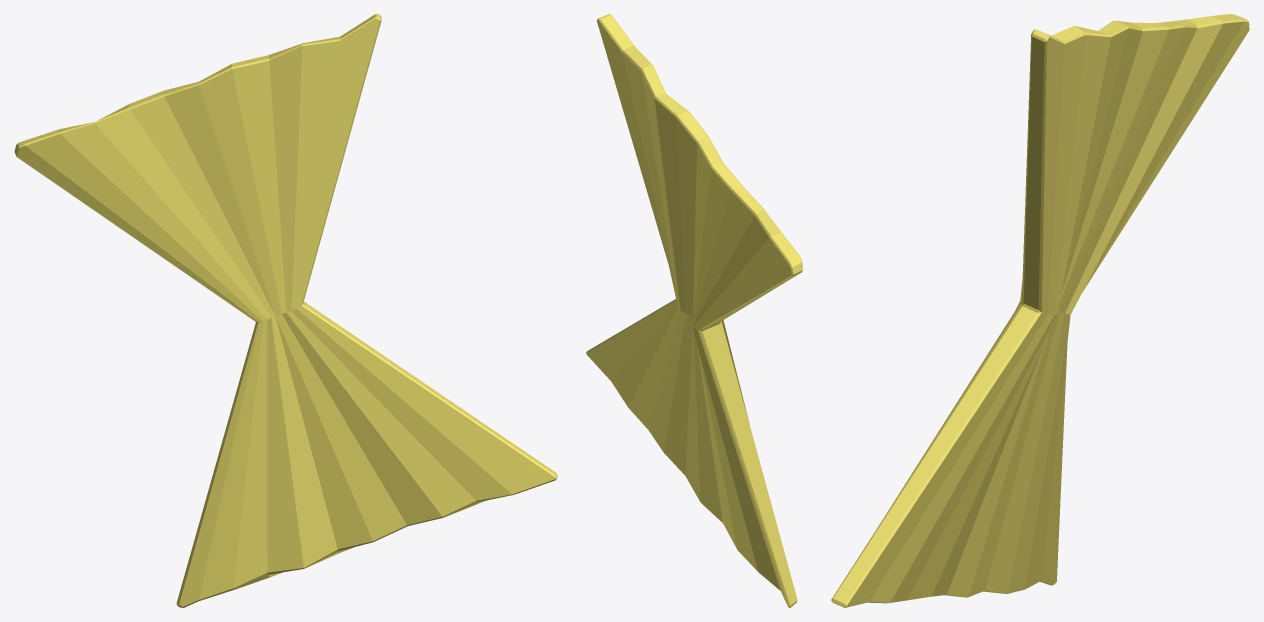
3 views of the same model, side by side, from view 1: azimuth 30°, elevation 25°; view 2: azimuth 150°, elevation 25°; view 3: azimuth 270°, elevation 25° (orthographic). The views are drawn at different scales.
Visible parts, largest first — view 1: Plane.013; view 2: Plane.013; view 3: Plane.013.
Boxes of the visible parts, x1,y1,x2,y2 form: Plane.013: (14, 14, 557, 607); Plane.013: (586, 14, 802, 607); Plane.013: (831, 14, 1249, 607).
Size of the model in its own units: 1.35 by 1.86 by 1.06.
